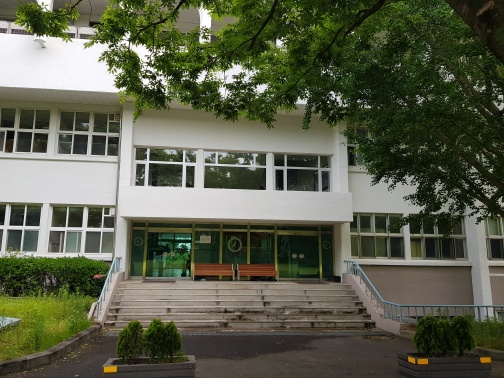Main Building of University: (10, 49, 504, 347), (95, 110, 393, 341)
